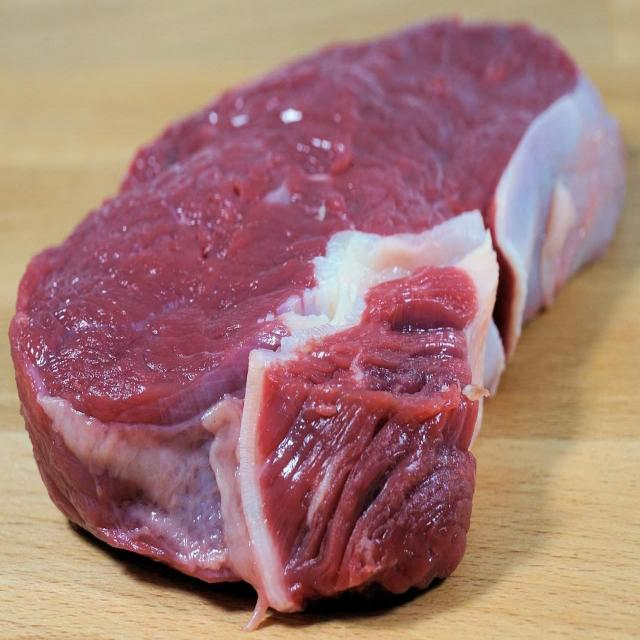Beef: (10, 20, 626, 626)
